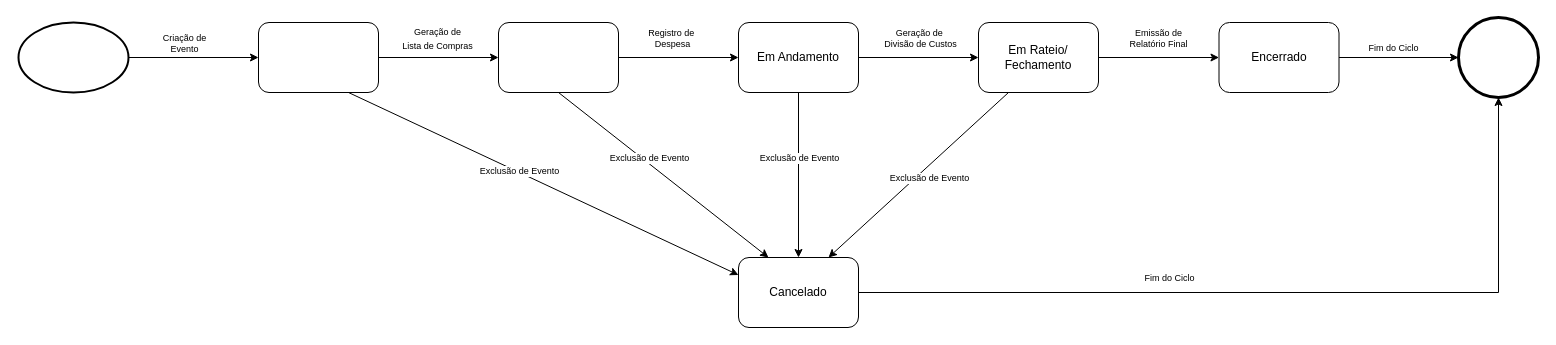
The diagram is 1556 pixels wide and 345 high, and some of its shapes have lost their labels. Each missing label, with the box of its shape:
Em Planejamento: (258, 22, 378, 92)
Evento Confirmado: (498, 22, 618, 92)
